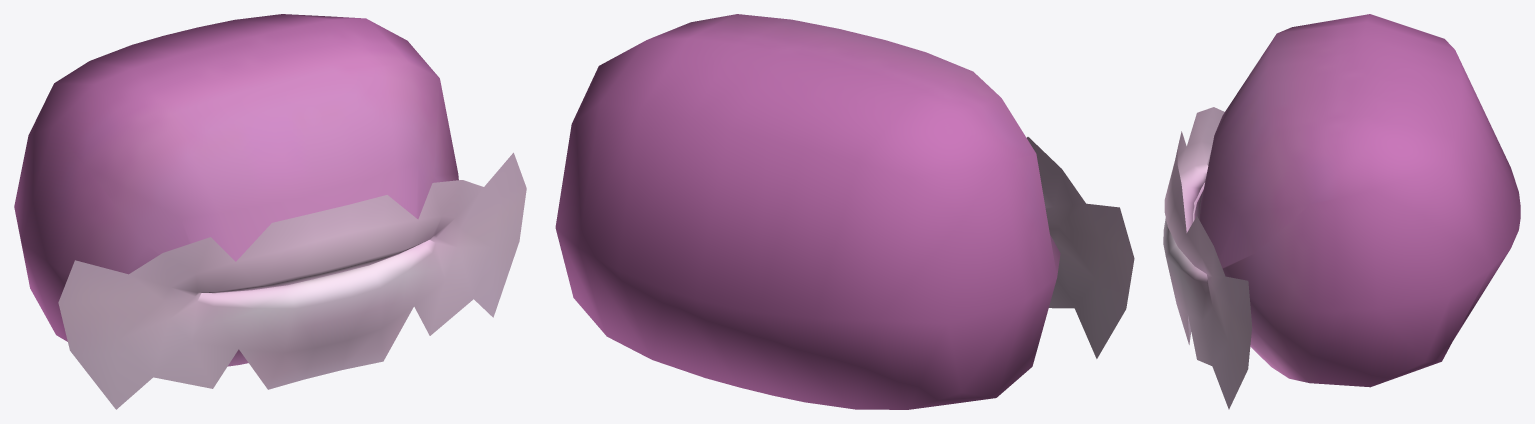
The model's file is hypnoshroom_boca.obj.
The picture shows the model from 3 angles, left to right: view 1: azimuth 30°, elevation 25°; view 2: azimuth 150°, elevation 25°; view 3: azimuth 270°, elevation 25°; orthographic projection. The views are drawn at different scales.
Visible parts, largest first — view 1: hypnoshroom_boca; view 2: hypnoshroom_boca; view 3: hypnoshroom_boca.
Part boxes in pixels (box(x1,y1,x2,y2)): hypnoshroom_boca: box(14, 14, 526, 409); hypnoshroom_boca: box(555, 14, 1134, 409); hypnoshroom_boca: box(1163, 14, 1520, 409).
Size of the model in its own units: 0.2456 by 0.1419 by 0.1706.
